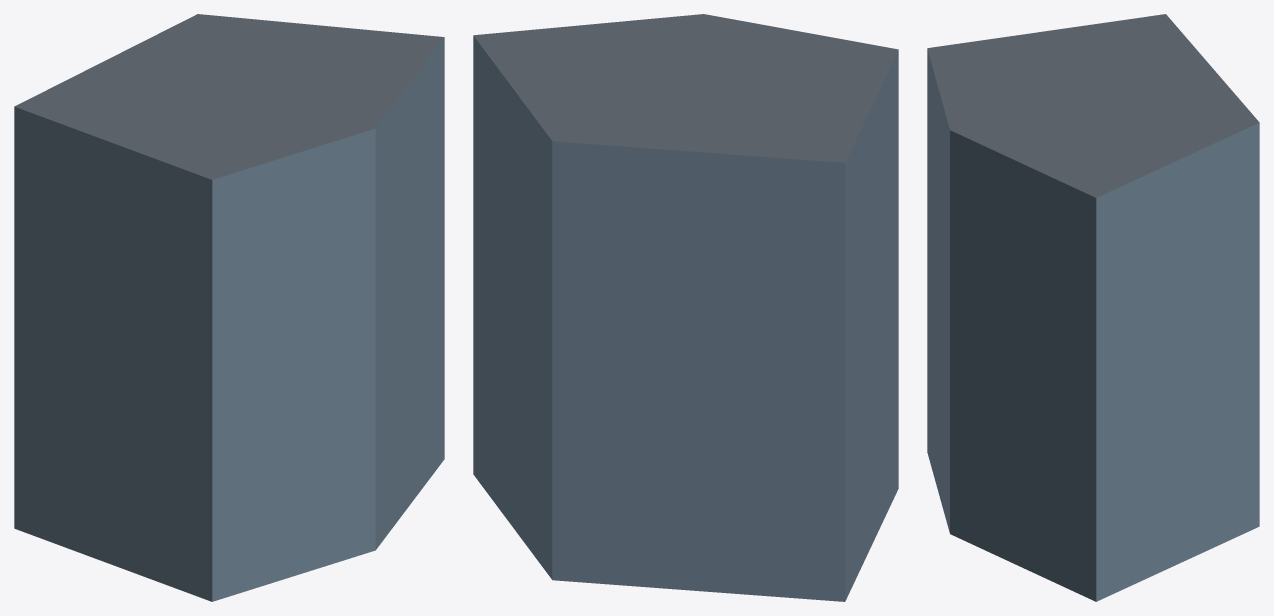
3 views of the same model, side by side, from view 1: azimuth 30°, elevation 25°; view 2: azimuth 150°, elevation 25°; view 3: azimuth 270°, elevation 25° (orthographic). The views are drawn at different scales.
Parts seen in each view (by area): view 1: HP-w439877626; view 2: HP-w439877626; view 3: HP-w439877626.
Part boxes in pixels (x1,y1,x2,y2): HP-w439877626: (14, 14, 444, 601); HP-w439877626: (473, 14, 898, 601); HP-w439877626: (927, 14, 1259, 601).
Bounding box in the file's own units: 37.12 × 38 × 28.34.
